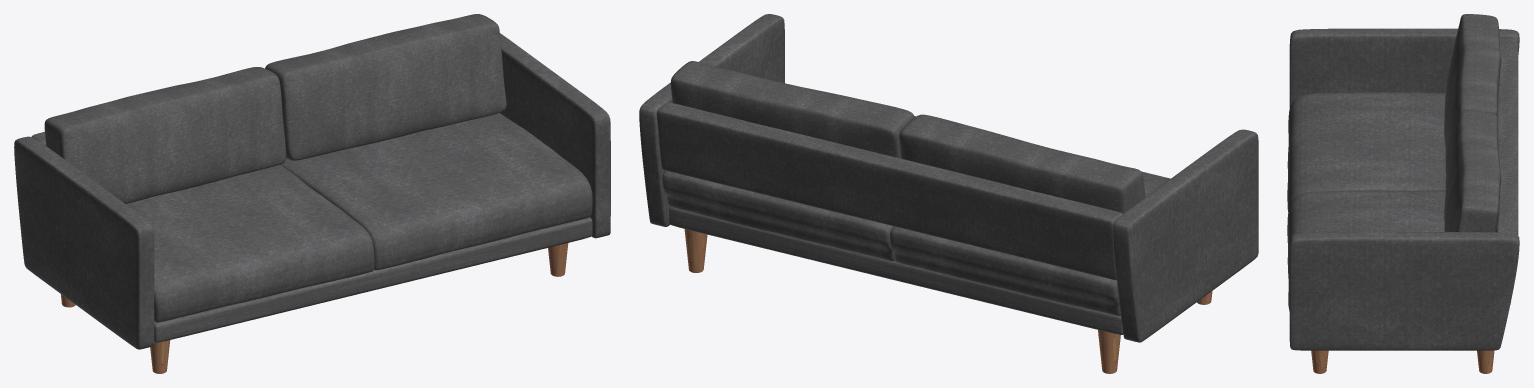
The model's file is Double-Sofa.obj.
3 views of the same model, side by side, from view 1: azimuth 30°, elevation 25°; view 2: azimuth 150°, elevation 25°; view 3: azimuth 270°, elevation 25° (orthographic). The views are drawn at different scales.
Visible parts, largest first — view 1: Sofa3; view 2: Sofa3; view 3: Sofa3.
Boxes of the visible parts, x1,y1,x2,y2 form: Sofa3: (14,14,610,373); Sofa3: (639,14,1258,373); Sofa3: (1287,14,1519,373).
Size of the model in its own units: 172 by 66.34 by 79.69.
